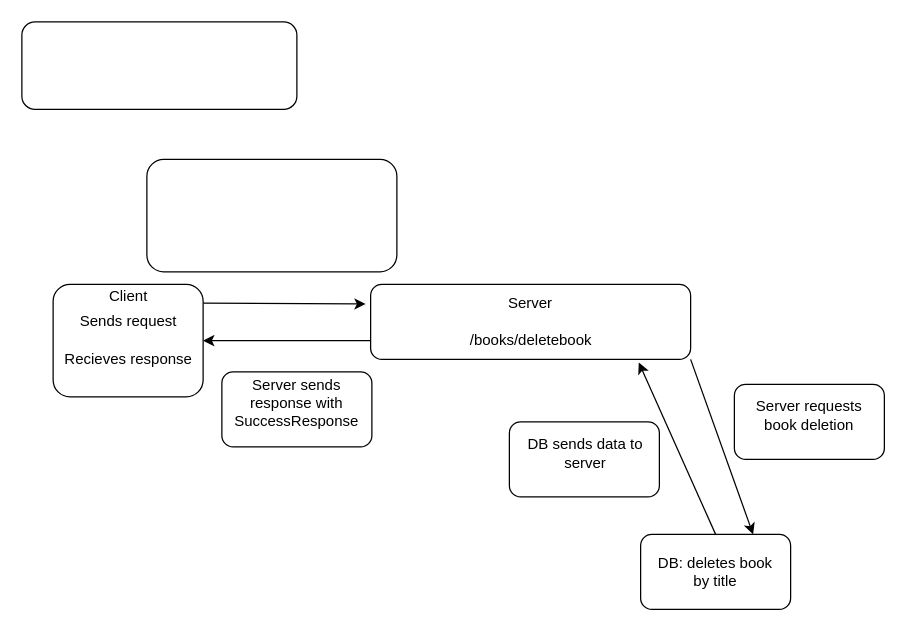
This 906x631 diagram has some shape labels left out. The box of each missing label's shape, as (x1, y1, x2, y2) in pixels:
Client sends DELETE request with body with title: (146, 158, 397, 272)
Delete a Book by Title: (21, 21, 297, 109)
